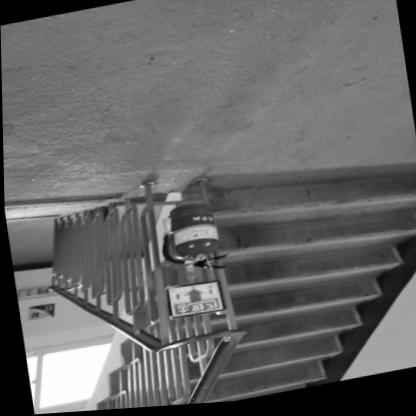FE: (155, 200, 223, 281)
